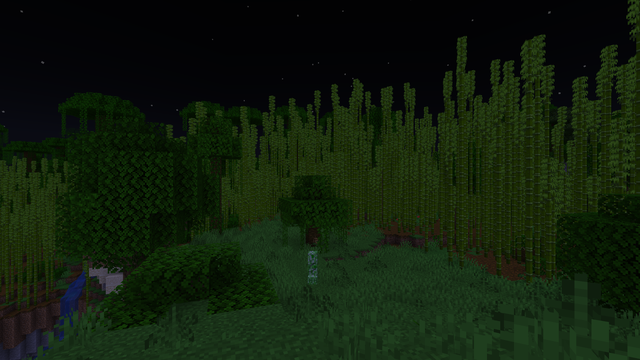creepers: (306, 248, 319, 283)
